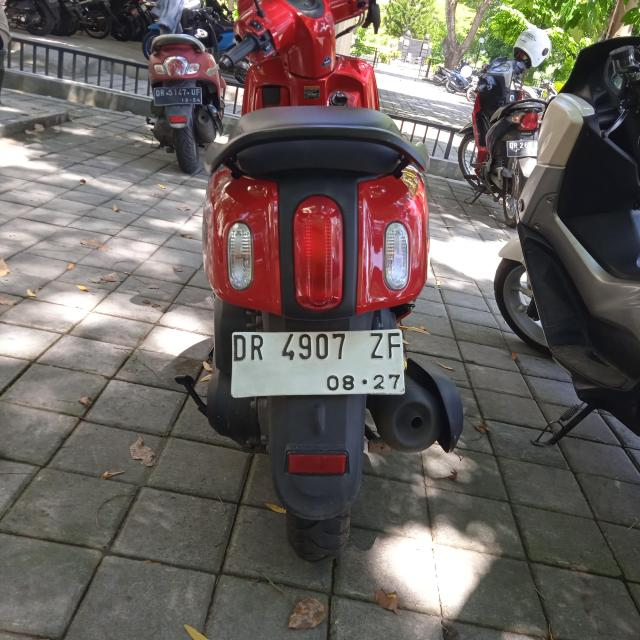plate: (232, 329, 405, 397), (154, 86, 202, 107), (507, 140, 538, 157)
